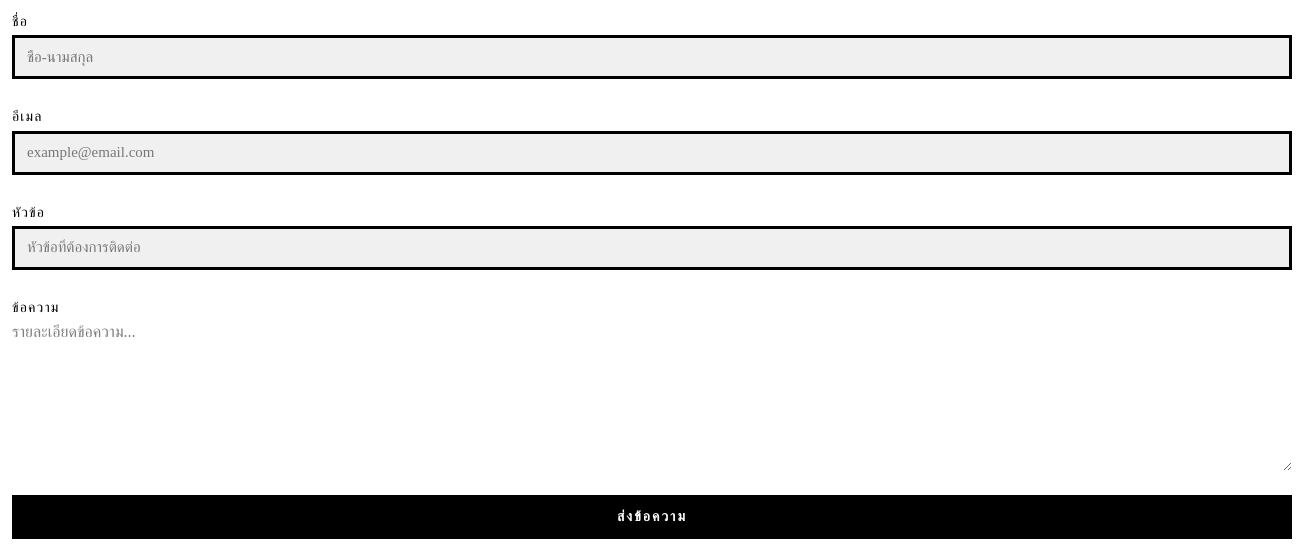
Test case: ContactForm › disables button and shows loading state during submission
The image size is (1304, 556).
Type "John Doe" into the field with placeholder "ชื่อ-นามสกุล" at x=652, y=57, box [12,35,1292,79]
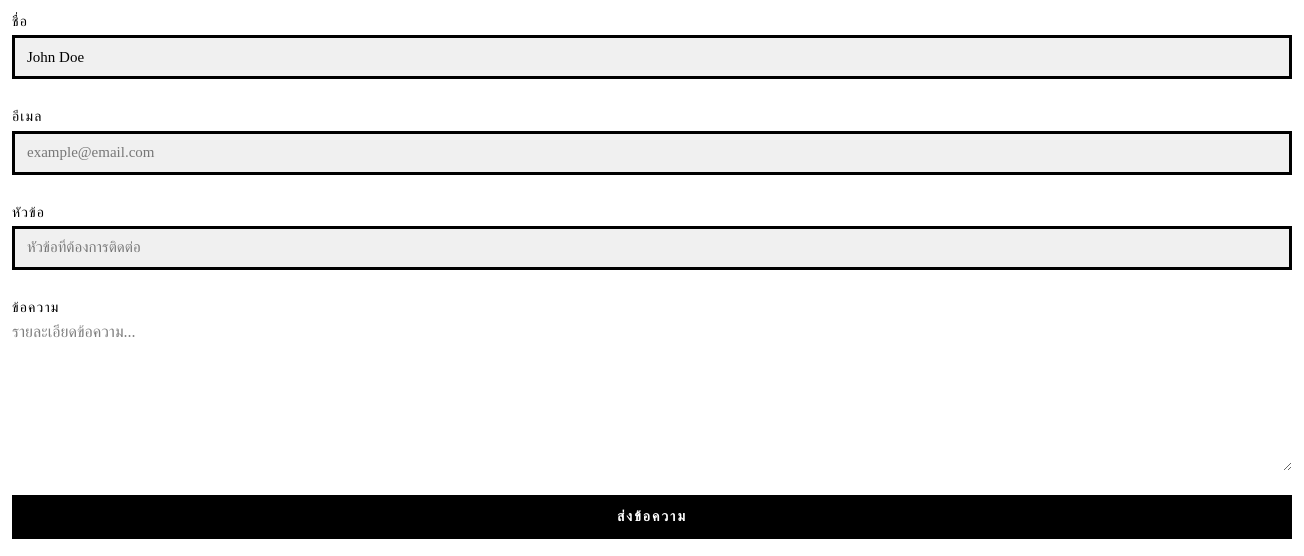
Type "john@example.com" into the field with placeholder "example@email.com" at x=652, y=152, box [12,130,1292,174]
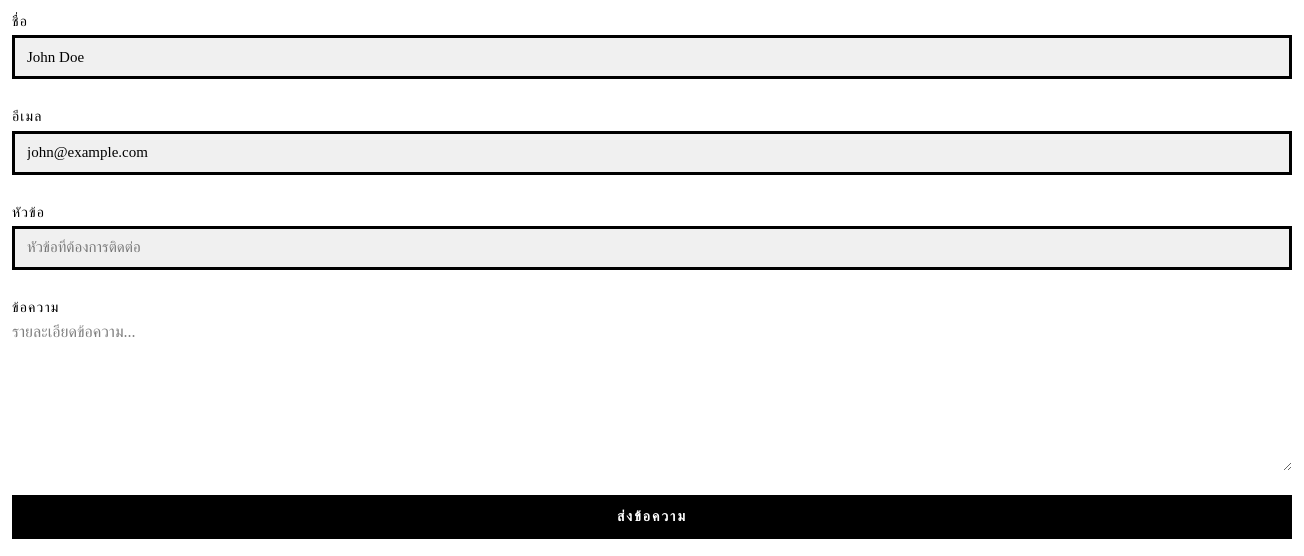
Type "Hello" into the field with placeholder "หัวข้อที่ต้องการติดต่อ" at x=652, y=248, box [12,226,1292,270]
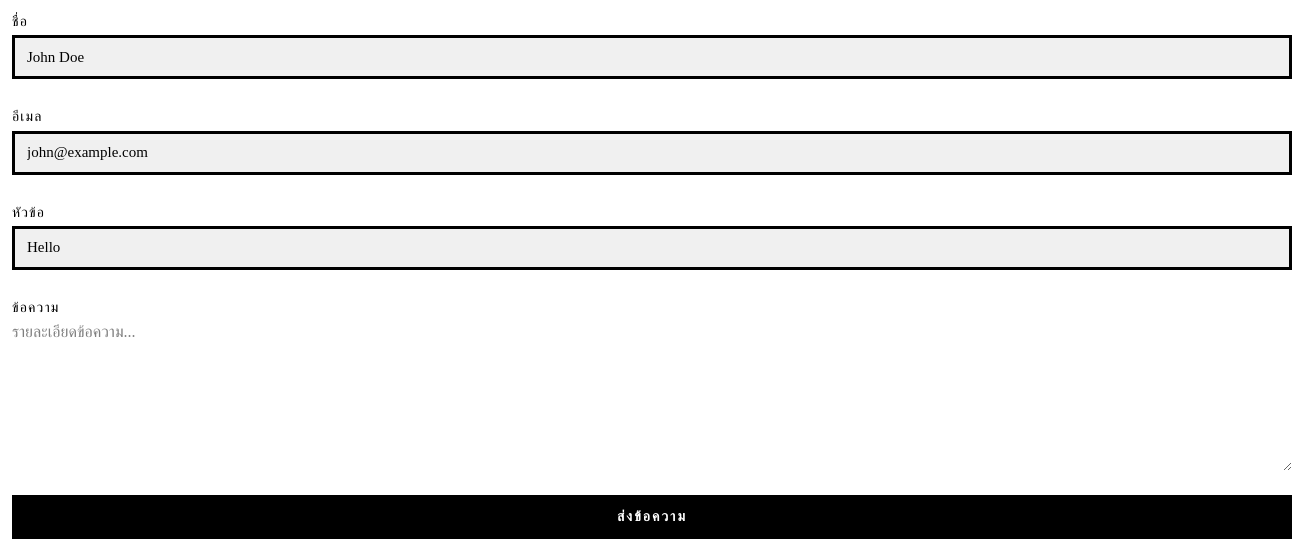
Type "This is a test message long enough" into the text box with placeholder "รายละเอียดข้อความ..." at x=652, y=396, box [12,321,1292,471]
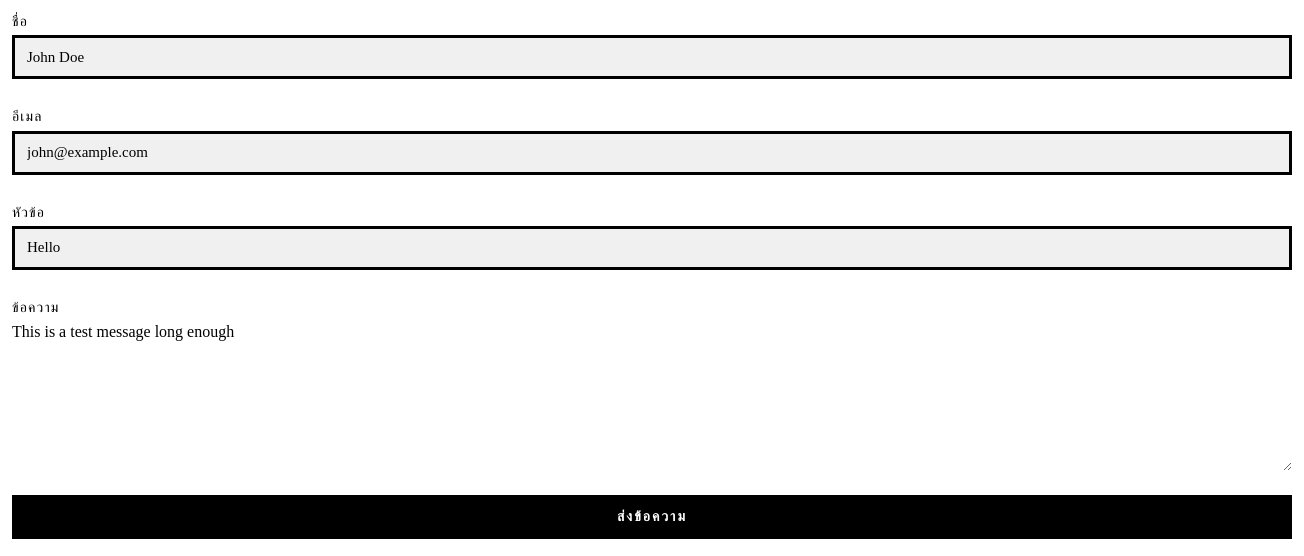
Click the button "ส่งข้อความ" at x=652, y=517, box [12,495,1292,539]
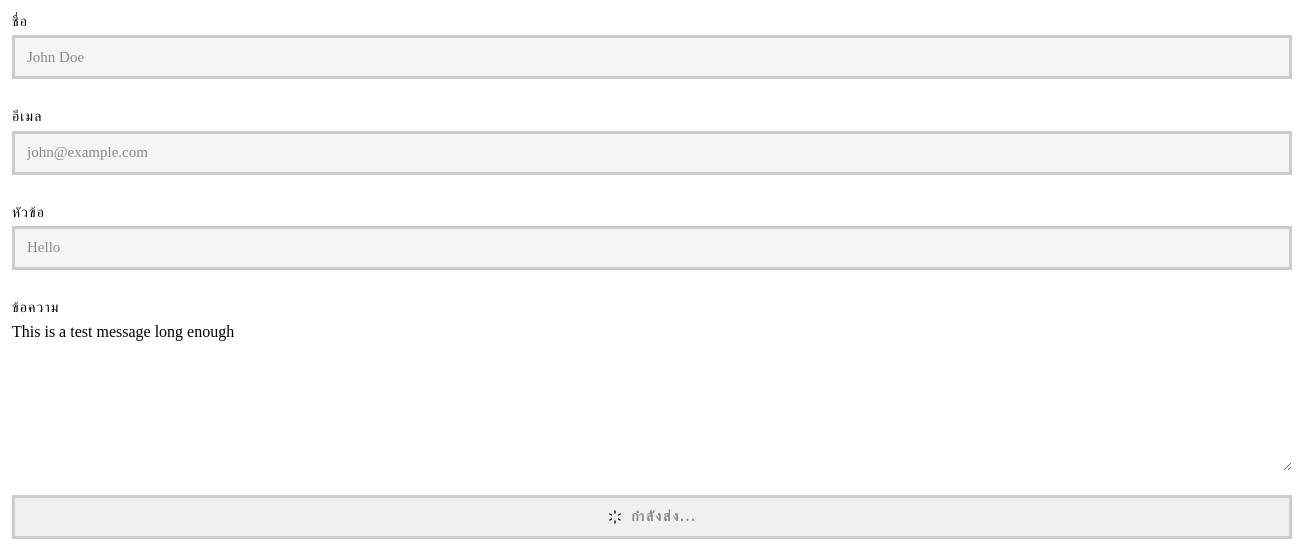
Check: the button is disabled, box [12,495,1292,539]
Check: the text "กำลังส่ง..." is shown, box [631,506,697,528]
